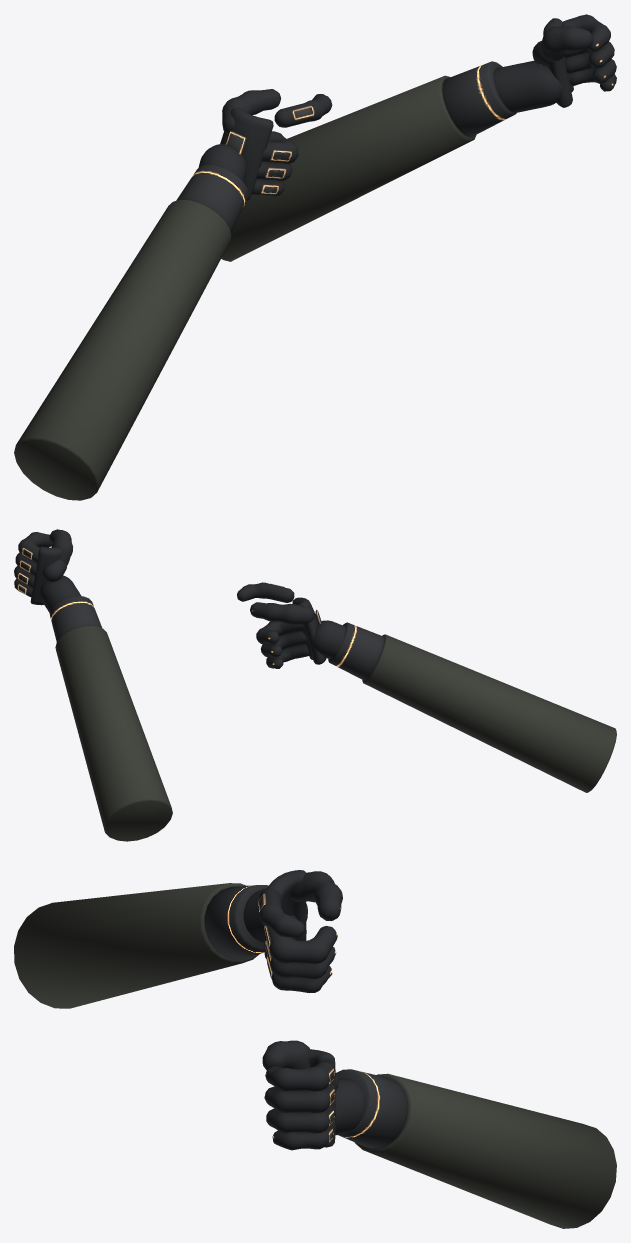
Rendered from fp_arms_m14p.gltf.
3 renders of one model, top to bottom at view 1: azimuth 30°, elevation 25°; view 2: azimuth 150°, elevation 25°; view 3: azimuth 270°, elevation 25°, orthographic. The views are drawn at different scales.
Visible parts, largest first — view 1: fp_arms_m14p; view 2: fp_arms_m14p; view 3: fp_arms_m14p.
Boxes of the visible parts, x1=… form: fp_arms_m14p: x1=14, y1=14, x2=616, y2=500; fp_arms_m14p: x1=14, y1=529, x2=616, y2=841; fp_arms_m14p: x1=14, y1=870, x2=616, y2=1228.
Bounding box in the file's own units: 0.7907 × 0.2923 × 0.5271.
Materials: 1 (1 with a texture image).
